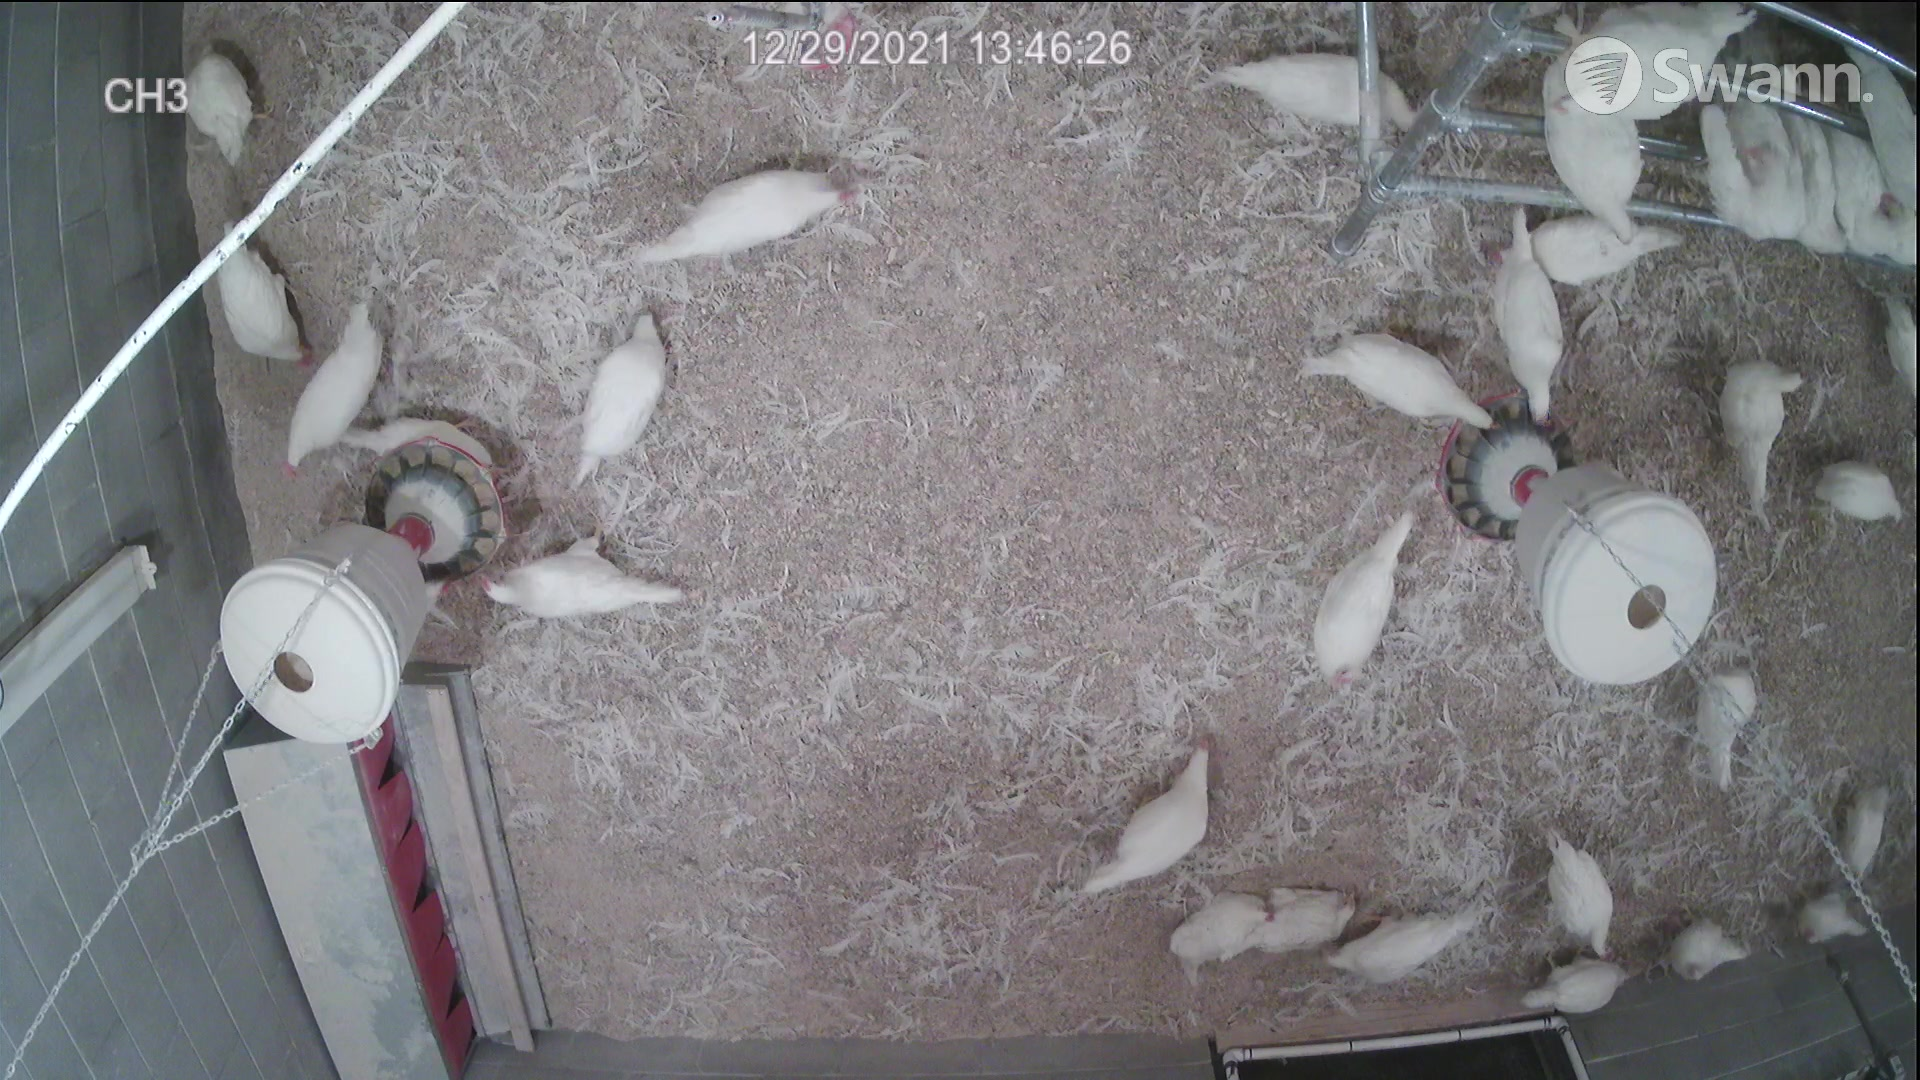Dust Bathing: (1266, 861, 1365, 972)
Feeding: (1303, 328, 1494, 444), (1480, 214, 1577, 425)
Foraging: (1299, 501, 1423, 698), (1077, 741, 1221, 910), (203, 225, 327, 360), (578, 309, 669, 483), (182, 40, 272, 171), (1808, 462, 1912, 538)
Perching: (1534, 46, 1643, 247), (1568, 4, 1724, 116), (1847, 32, 1909, 225), (1713, 117, 1782, 255), (1775, 120, 1840, 244), (1841, 99, 1880, 269)
